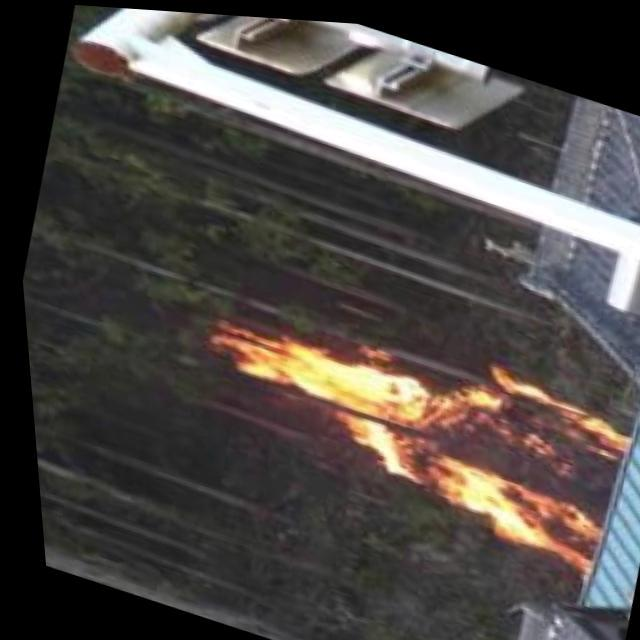fire: (204, 273, 640, 577)
